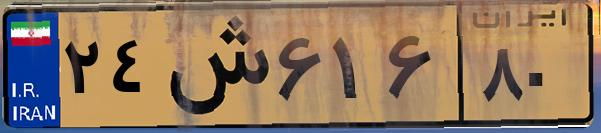0: (525, 38, 570, 115)
1: (330, 28, 385, 110)
2: (57, 26, 110, 100)
4: (110, 28, 158, 98)
6: (270, 28, 330, 110), (385, 28, 445, 110)
8: (475, 38, 525, 113)
ش: (158, 12, 270, 120)
